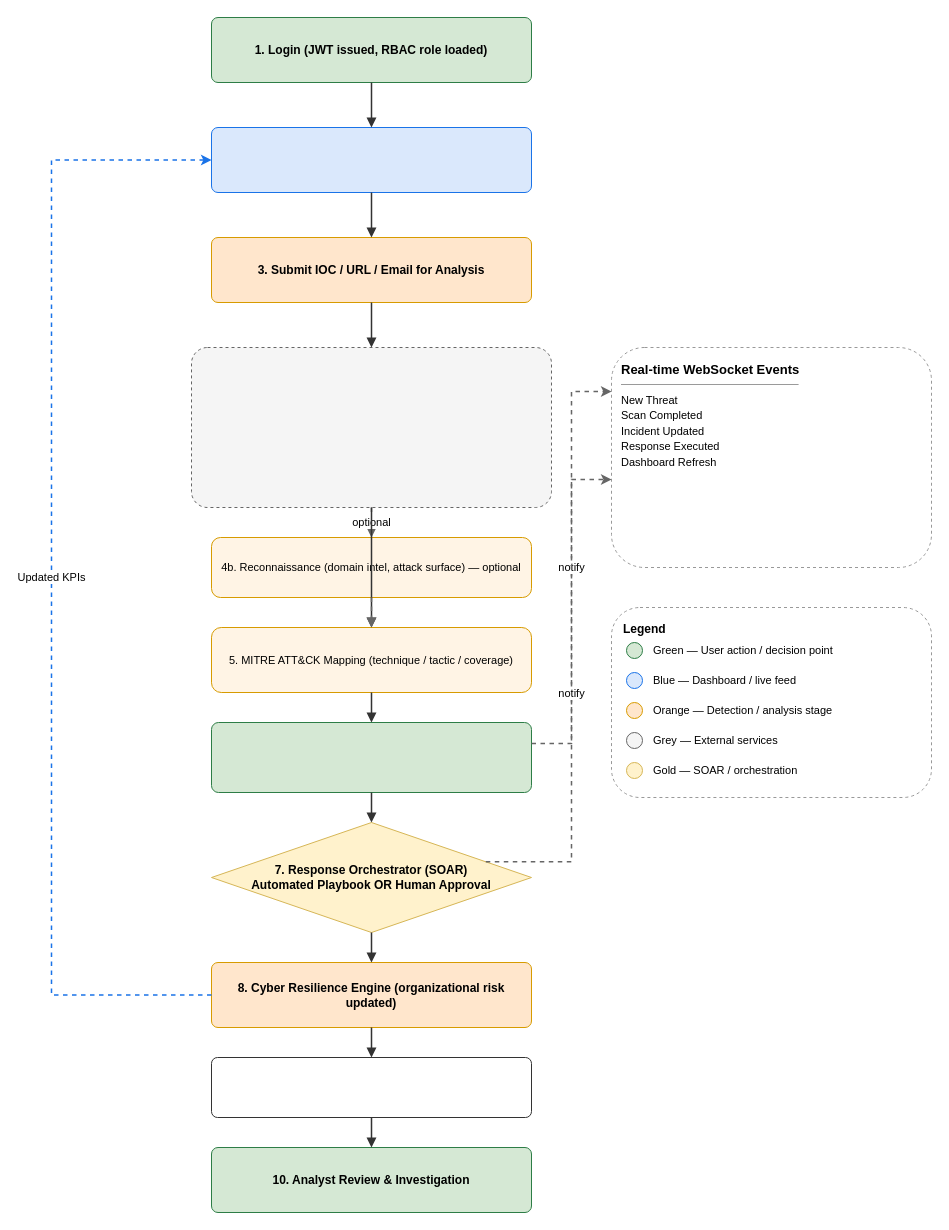
The diagram is 949 pixels wide and 1230 high, and some of its shapes have lost their labels. Each missing label, with the centre of its shape:
"2. SOC Command Center Dashboard (real-time WebSocket feed)" goes at pixel 371 159.
"4. Threat Intelligence Enrichment PhishTank VirusTotal AbuseIPDB Shodan HIBP" goes at pixel 371 427.
"6. Unified Risk Assessment (Risk Scoring + Vulnerability Prioritization)" goes at pixel 371 757.
"9. PDF Report Generation" goes at pixel 371 1087.
